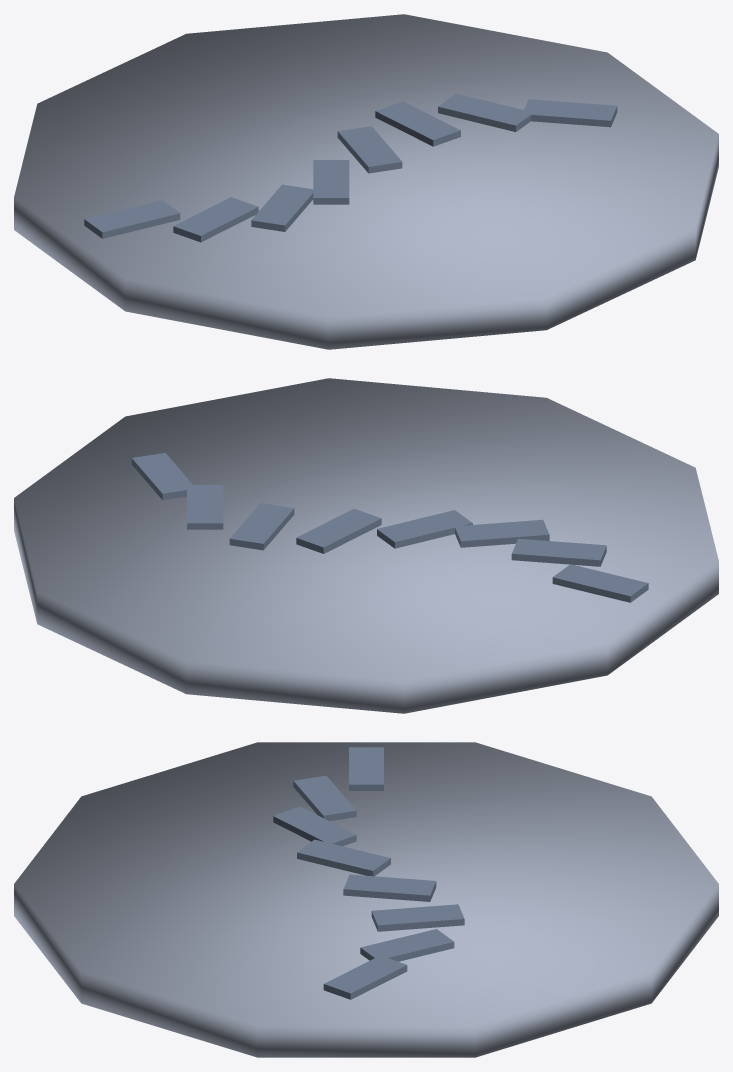
The model's file is frozen_ribbon.glb.
3 views of the same model, one above another, from view 1: azimuth 30°, elevation 25°; view 2: azimuth 150°, elevation 25°; view 3: azimuth 270°, elevation 25° (orthographic). The views are drawn at different scales.
Parts seen in each view (by area): view 1: frozen_ribbon; view 2: frozen_ribbon; view 3: frozen_ribbon.
Part boxes in pixels (x1,y1,x2,y2): frozen_ribbon: (14, 14, 718, 349); frozen_ribbon: (14, 378, 718, 713); frozen_ribbon: (14, 742, 718, 1057).
Size of the model in its own units: 0.3804 by 0.024 by 0.4.
